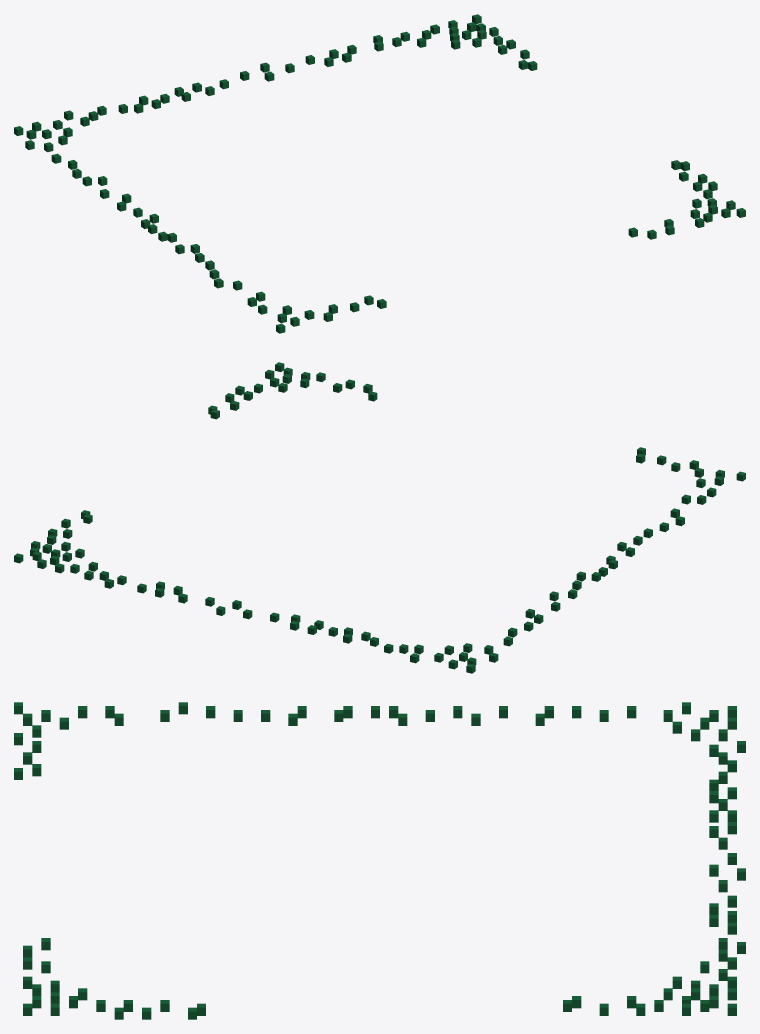
File: river_plants_4_overtile.glb
The picture shows the model from 3 angles, top to bottom: view 1: azimuth 30°, elevation 25°; view 2: azimuth 150°, elevation 25°; view 3: azimuth 270°, elevation 25°; orthographic projection. The views are drawn at different scales.
Visible parts, largest first — view 1: river_plants_4_overtile; view 2: river_plants_4_overtile; view 3: river_plants_4_overtile.
Boxes of the visible parts, <box> form: river_plants_4_overtile: <box>14,14,745,333</box>; river_plants_4_overtile: <box>14,362,745,673</box>; river_plants_4_overtile: <box>14,702,745,1019</box>.
Bounding box in the file's own units: 8 × 0.1 × 8.
Materials: 1 (1 with a texture image).
